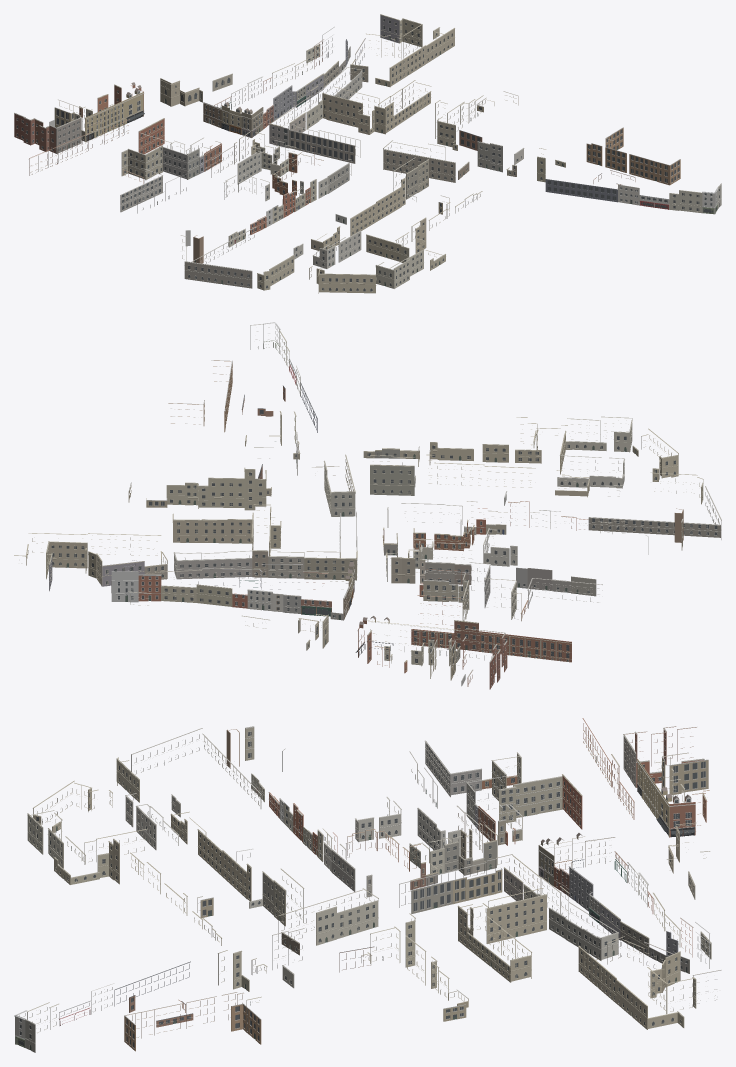
3 views of the same model, one above another, from view 1: azimuth 30°, elevation 25°; view 2: azimuth 150°, elevation 25°; view 3: azimuth 270°, elevation 25° (orthographic). The views are drawn at different scales.
Visible parts, largest first — view 1: f:way/27558188, f:relation/1840656, f:way/23470484, f:way/136601303, f:way/157588896, f:way/157588880, f:way/107708973, f:way/15387748, f:way/31770339, f:way/335049223, f:way/136330919, f:way/136601299 (+24 smaller); view 2: f:way/15387749, f:relation/1840656, f:way/136601296, f:way/107708973, f:way/201286462, f:way/157556168, f:way/136601297, f:relation/919869, f:way/157556169, f:way/140233528, f:way/157588880, f:way/1210815325 (+16 smaller); view 3: f:relation/1840656, f:way/136601303, f:way/15387748, f:way/31770339, f:way/157588880, f:way/136330919, f:way/23470484, f:way/136601297, f:way/27558188, f:way/136330937, f:way/136601296, f:way/157588877 (+26 smaller).
Part boxes in pixels (left/top/right/bottom): f:way/27558188: left=586, top=127, right=680, bottom=185; f:relation/1840656: left=350, top=24, right=454, bottom=87; f:way/23470484: left=350, top=177, right=420, bottom=261; f:way/136601303: left=310, top=86, right=393, bottom=134; f:way/157588896: left=14, top=112, right=81, bottom=153; f:way/157588880: left=74, top=82, right=144, bottom=141; f:way/107708973: left=184, top=227, right=303, bottom=288; f:way/15387748: left=282, top=124, right=360, bottom=163; f:way/31770339: left=383, top=140, right=469, bottom=182; f:way/335049223: left=309, top=266, right=376, bottom=293; f:way/136330919: left=121, top=132, right=171, bottom=180; f:way/136601299: left=380, top=14, right=439, bottom=47; f:way/15387749: left=166, top=467, right=266, bottom=510; f:relation/1840656: left=25, top=533, right=167, bottom=586; f:way/136601296: left=172, top=513, right=253, bottom=543; f:way/107708973: left=588, top=485, right=721, bottom=539; f:way/201286462: left=478, top=631, right=571, bottom=662; f:way/157556168: left=363, top=417, right=527, bottom=462; f:way/136601297: left=173, top=550, right=252, bottom=579; f:relation/919869: left=160, top=568, right=239, bottom=606; f:way/157556169: left=370, top=455, right=414, bottom=495; f:way/140233528: left=304, top=550, right=357, bottom=580; f:way/157588880: left=355, top=616, right=460, bottom=666; f:way/1210815325: left=382, top=519, right=474, bottom=555; f:relation/1840656: left=578, top=936, right=680, bottom=1029; f:way/136601303: left=457, top=886, right=569, bottom=947; f:way/15387748: left=399, top=859, right=502, bottom=913; f:way/31770339: left=278, top=888, right=378, bottom=955; f:way/157588880: left=636, top=759, right=695, bottom=837; f:way/136330919: left=491, top=752, right=562, bottom=817; f:way/23470484: left=96, top=828, right=251, bottom=901; f:way/136601297: left=548, top=902, right=618, bottom=960; f:way/27558188: left=124, top=992, right=261, bottom=1051; f:way/136330937: left=409, top=836, right=484, bottom=875; f:way/136601296: left=467, top=916, right=531, bottom=982; f:way/157588877: left=662, top=752, right=708, bottom=794.
Size of the model in its own units: 268 by 21.12 by 254.
